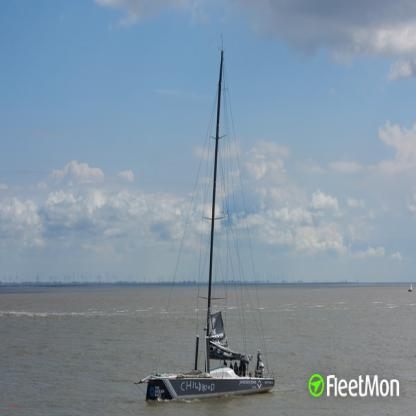Sails Boat: (134, 34, 276, 402)
